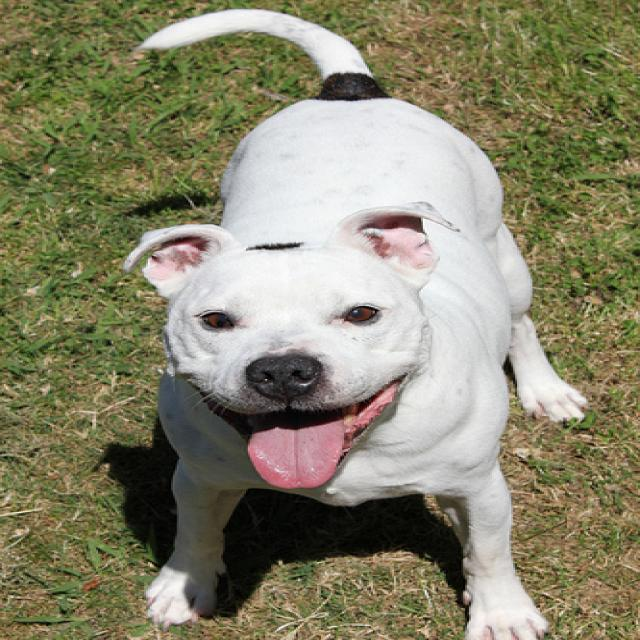dog-staffordshire_bull_terrier: (115, 1, 603, 637)
